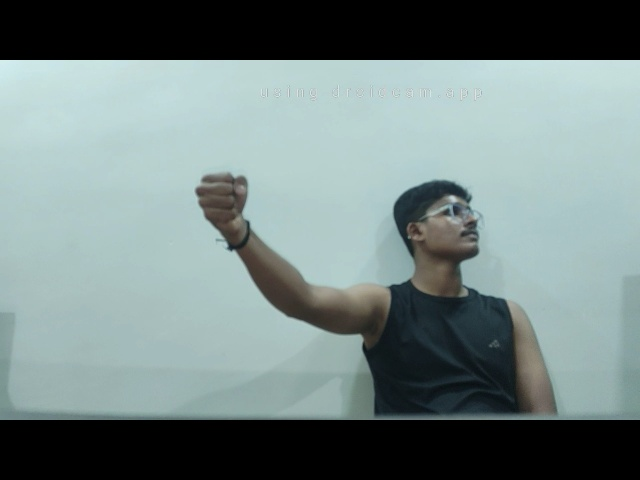yes: (191, 168, 258, 244)
